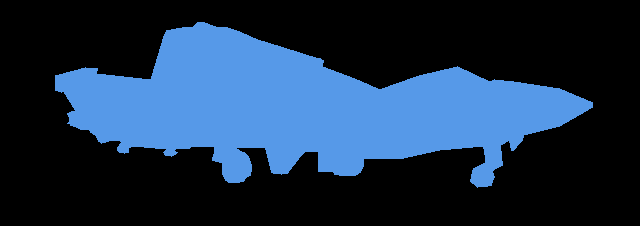Airplane: (55, 22, 593, 188)
